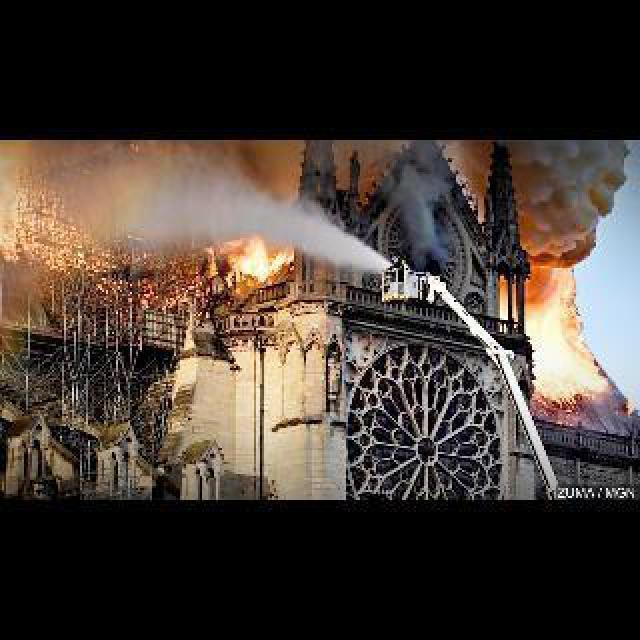Fire: (88, 170, 308, 312), (496, 216, 612, 404)
